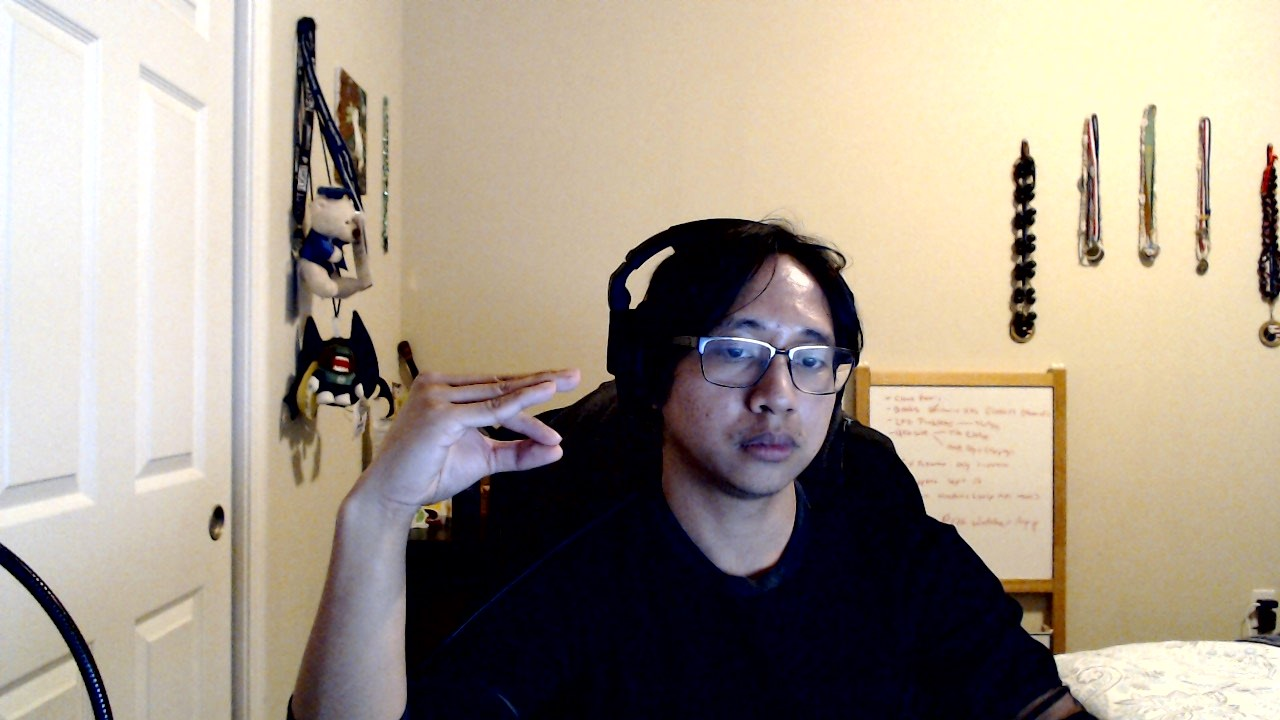z: (339, 365, 582, 507)
